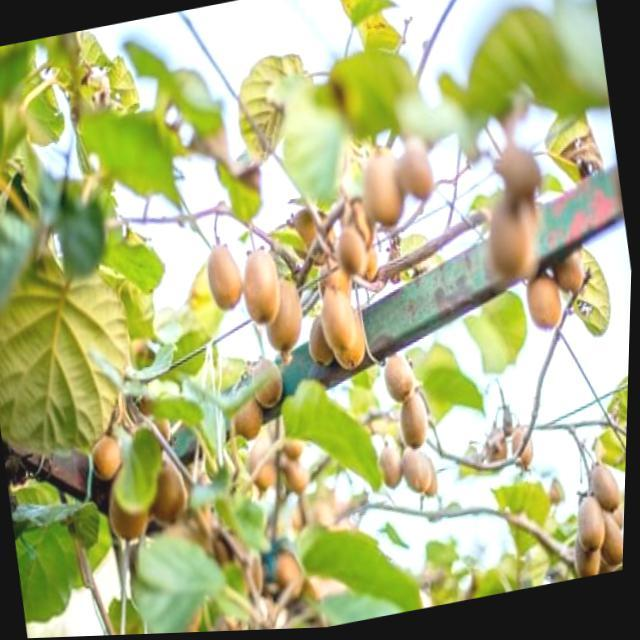kiwi: (487, 201, 536, 289), (143, 453, 196, 534), (238, 250, 290, 330), (362, 156, 411, 237), (108, 469, 159, 545), (263, 278, 310, 357), (205, 246, 248, 318), (524, 270, 569, 337), (320, 294, 361, 360), (401, 149, 441, 210), (578, 499, 614, 563), (593, 510, 628, 574), (249, 437, 285, 498), (233, 389, 269, 448), (254, 358, 290, 413), (385, 355, 421, 410), (400, 400, 434, 456), (274, 551, 310, 602), (556, 253, 591, 302), (594, 470, 627, 521), (93, 435, 128, 482), (577, 534, 610, 583), (402, 447, 432, 499), (382, 448, 410, 496), (512, 430, 540, 476)
